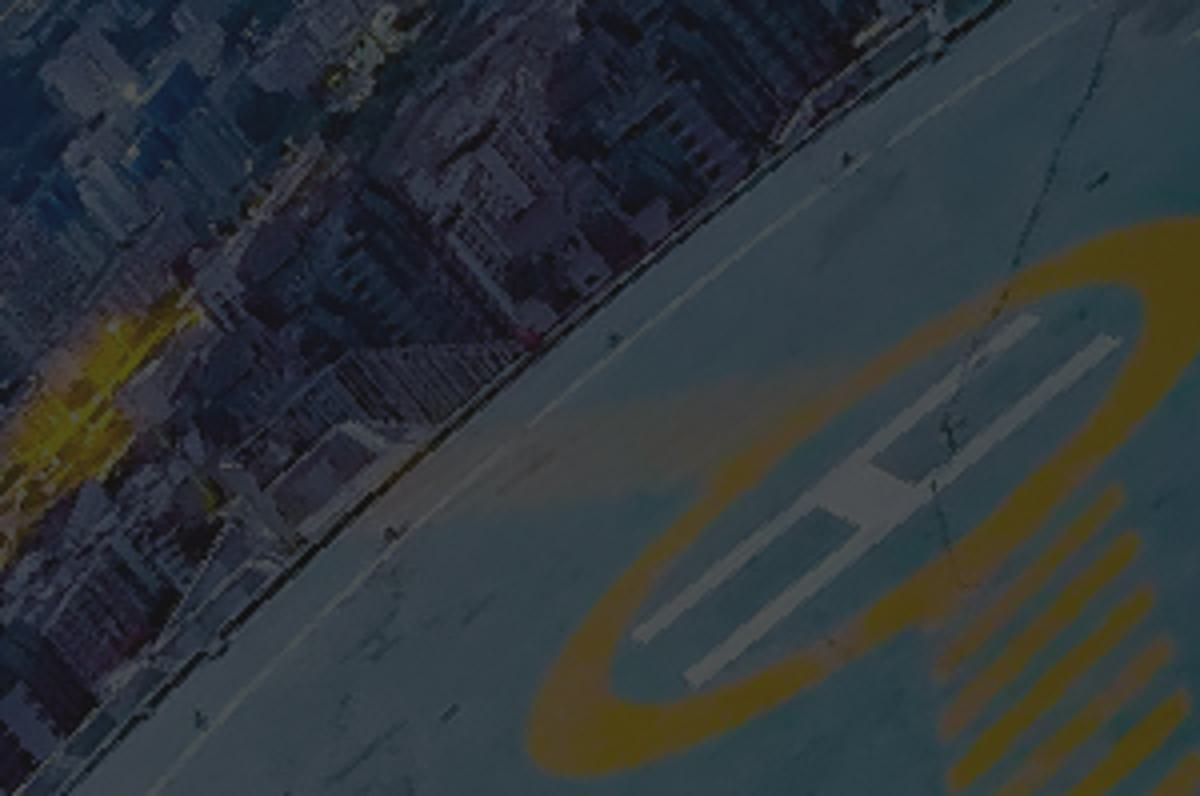Apron: (527, 208, 1200, 778)
